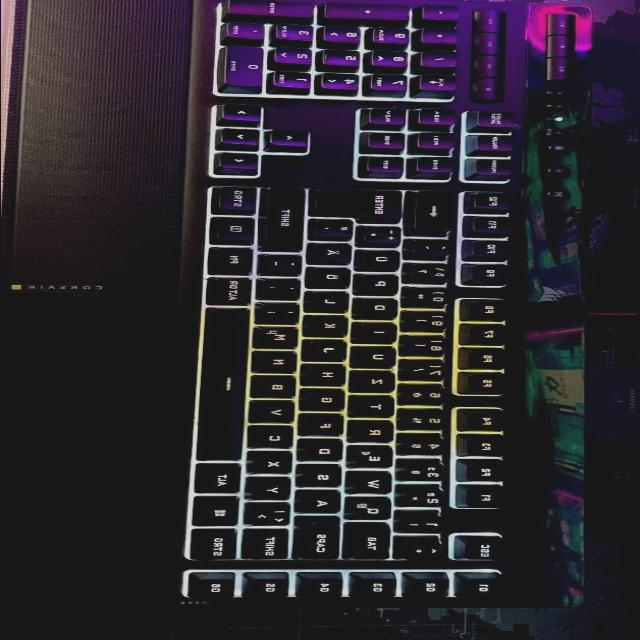0: (408, 289, 453, 309)
1: (400, 516, 445, 536)
2: (402, 488, 449, 510)
3: (401, 461, 449, 484)
4: (403, 437, 451, 457)
5: (402, 411, 451, 433)
6: (405, 386, 450, 408)
7: (404, 361, 452, 383)
8: (404, 337, 453, 359)
9: (406, 312, 454, 334)
a: (298, 494, 346, 516)
accent: (414, 240, 459, 258)
ae: (310, 244, 357, 266)
alt-left: (197, 465, 246, 497)
altgr-right: (209, 279, 257, 308)
b: (255, 378, 301, 401)
c: (253, 429, 299, 451)
caret: (404, 543, 446, 562)
comma: (260, 305, 305, 325)
d: (301, 440, 348, 464)
del: (412, 193, 460, 235)
e: (350, 447, 398, 471)
enter: (314, 191, 408, 224)
f: (303, 416, 349, 438)
g: (304, 391, 350, 413)
h: (306, 366, 351, 387)
hash: (314, 220, 359, 241)
i: (360, 324, 402, 344)
j: (306, 342, 352, 363)
k: (309, 317, 353, 339)
keyboard: (157, 0, 526, 614)
l: (309, 293, 354, 314)
less: (248, 506, 295, 528)
m: (258, 328, 304, 350)
minus: (263, 256, 307, 276)
n: (257, 353, 302, 375)
o: (359, 299, 403, 320)
oe: (309, 268, 355, 290)
p: (361, 275, 403, 295)
plus: (362, 227, 406, 247)
point: (262, 280, 306, 300)
q: (348, 499, 397, 523)
r: (353, 423, 399, 445)
s: (299, 466, 347, 490)
shift-left: (244, 530, 295, 563)
shift-lock: (296, 528, 345, 562)
shift-right: (263, 189, 310, 253)
space: (201, 309, 253, 463)
ss: (409, 264, 455, 284)
strg-left: (191, 529, 242, 563)
strg-right: (214, 186, 263, 215)
t: (356, 398, 400, 419)
tab: (349, 526, 396, 562)
u: (356, 348, 401, 370)
ue: (361, 251, 405, 271)
v: (256, 403, 300, 425)
w: (352, 474, 397, 496)
x: (252, 454, 297, 476)
y: (251, 482, 296, 502)
z: (356, 372, 400, 394)
